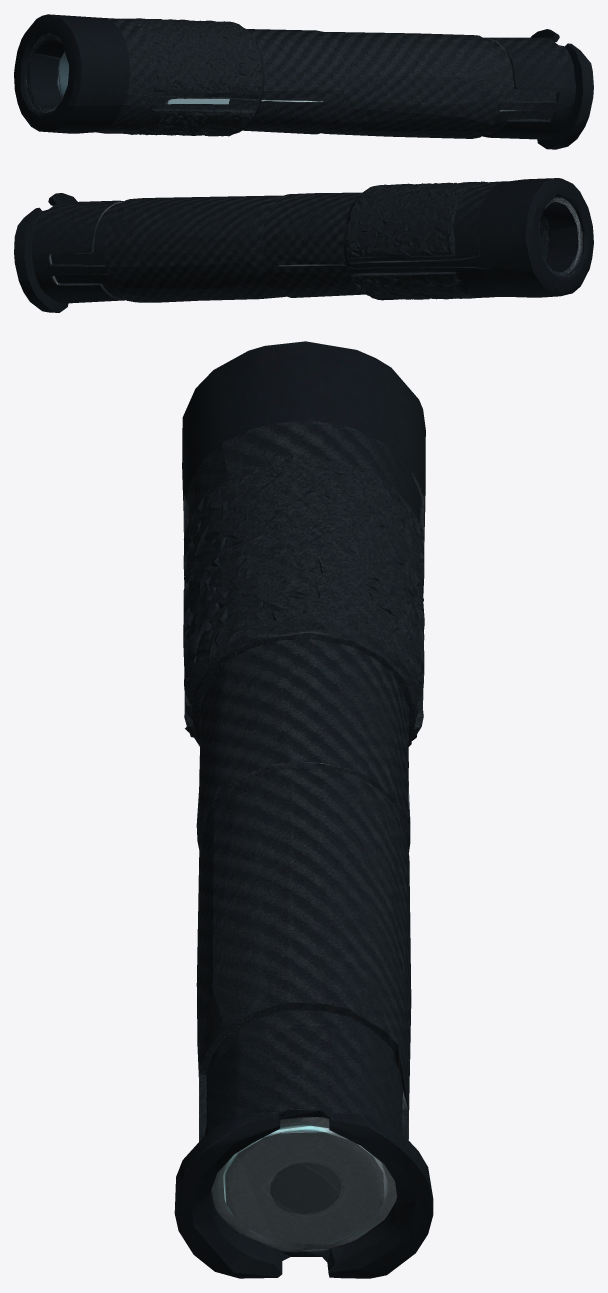
The model's file is mod_ghost_phantom.glb.
3 renders of one model, top to bottom at view 1: azimuth 30°, elevation 25°; view 2: azimuth 150°, elevation 25°; view 3: azimuth 270°, elevation 25°, orthographic. The views are drawn at different scales.
Size of the model in its own units: 1.9 by 0.7965 by 0.3943.
Materials: 1 (1 with a texture image).
